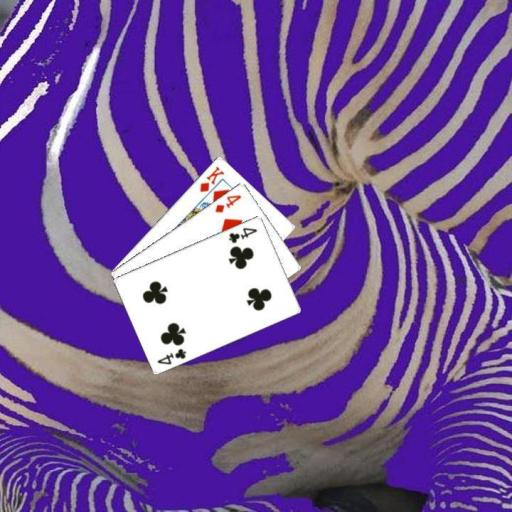card-corner: (196, 163, 226, 193), (225, 224, 259, 245), (212, 191, 242, 214), (154, 345, 188, 365)
